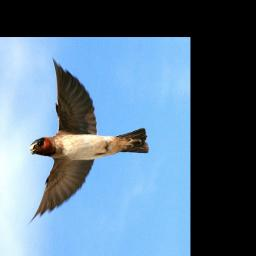Swallow: (20, 56, 159, 233)
